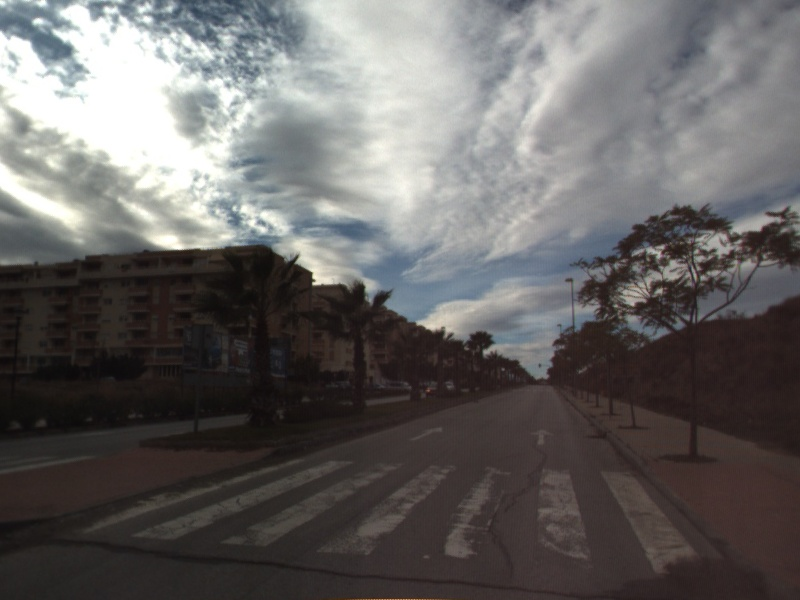STRAIGHT: (407, 425, 445, 443), (529, 427, 557, 447)
